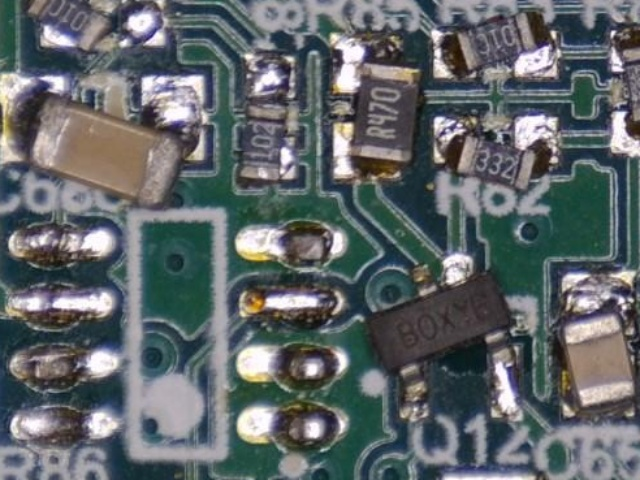pcb_defect: (0, 72, 207, 213), (364, 254, 525, 424), (329, 29, 423, 183), (554, 269, 638, 421), (431, 113, 560, 193), (431, 10, 561, 82), (237, 52, 299, 185), (24, 0, 167, 56), (608, 27, 640, 156), (640, 233, 640, 422)
